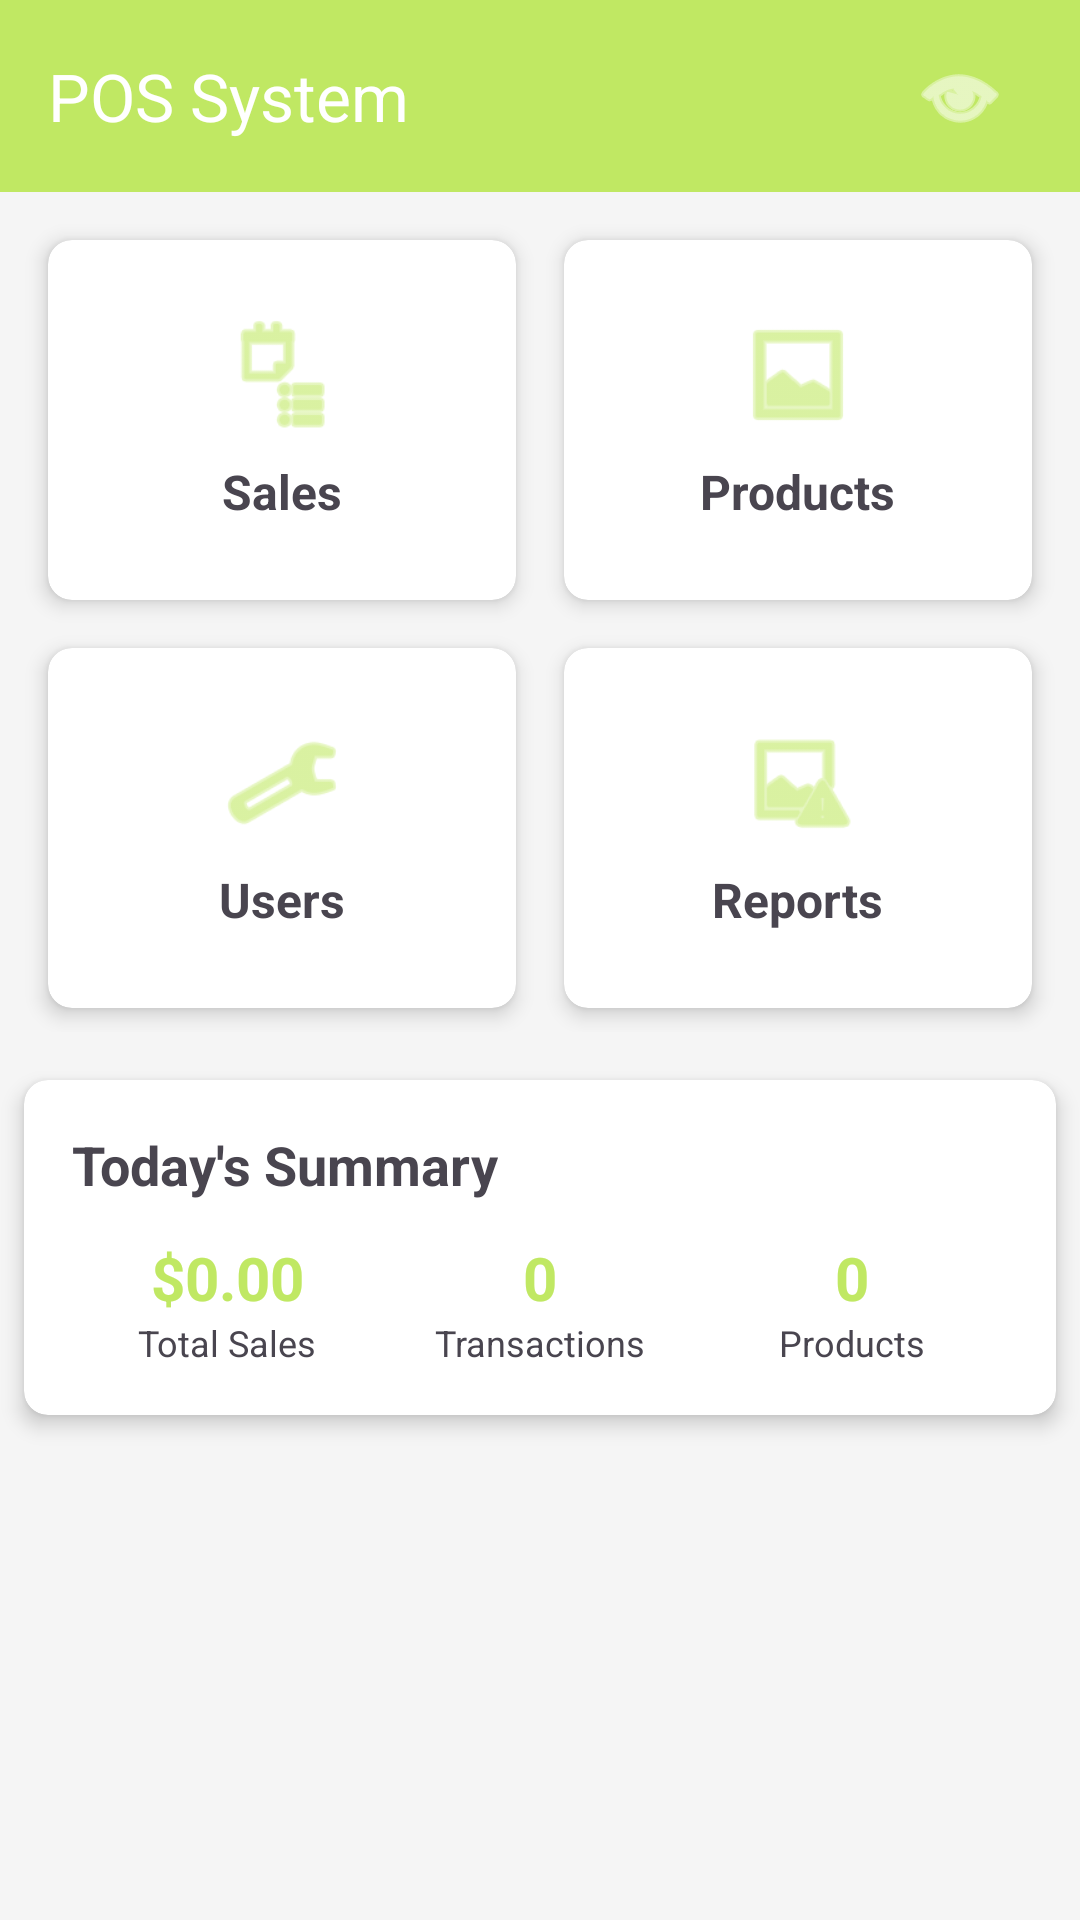

Point at icon controls on the screen. Image size 1080px×1920px, points as (x,y).
agenda: (283,374)
gallery: (798,375)
manage: (282,783)
